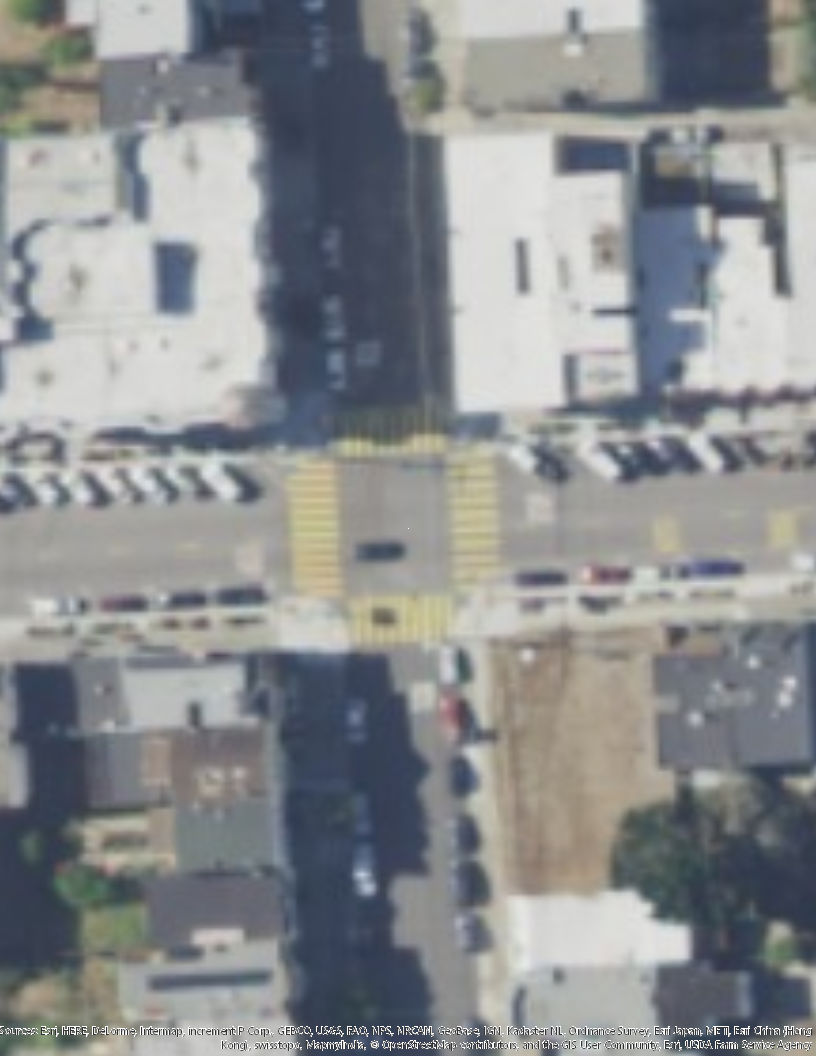zebracross: (279, 461, 342, 597), (448, 453, 499, 578), (330, 404, 441, 457), (350, 595, 454, 646)
